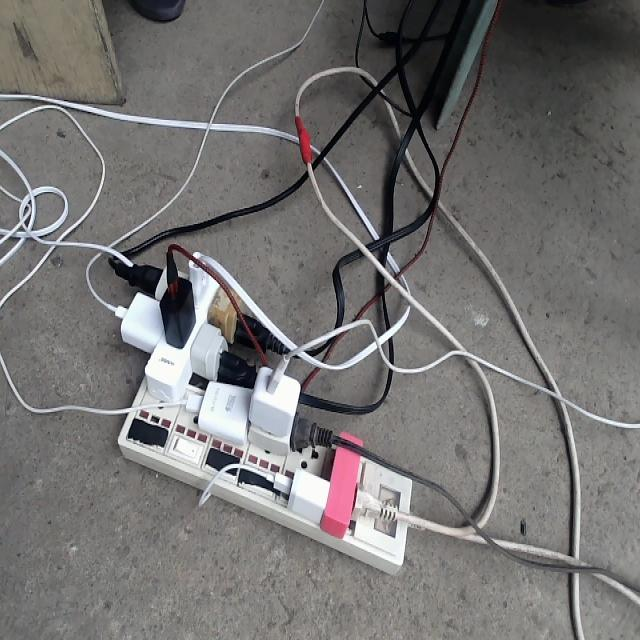-: (115, 239, 412, 577)
